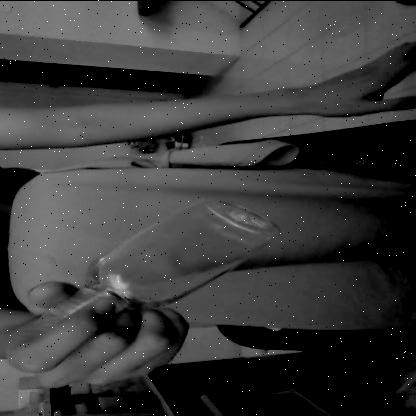Plastic Bottle: (50, 195, 280, 320)
